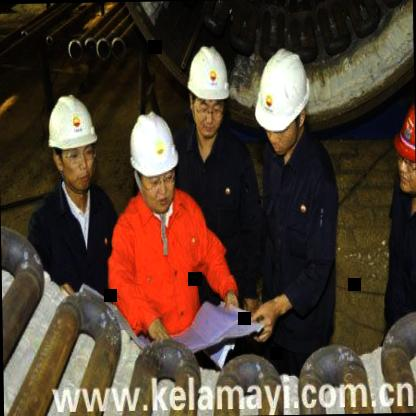helmet: (252, 46, 312, 160), (44, 87, 102, 192), (123, 115, 178, 211), (184, 39, 233, 144), (392, 88, 416, 198)
